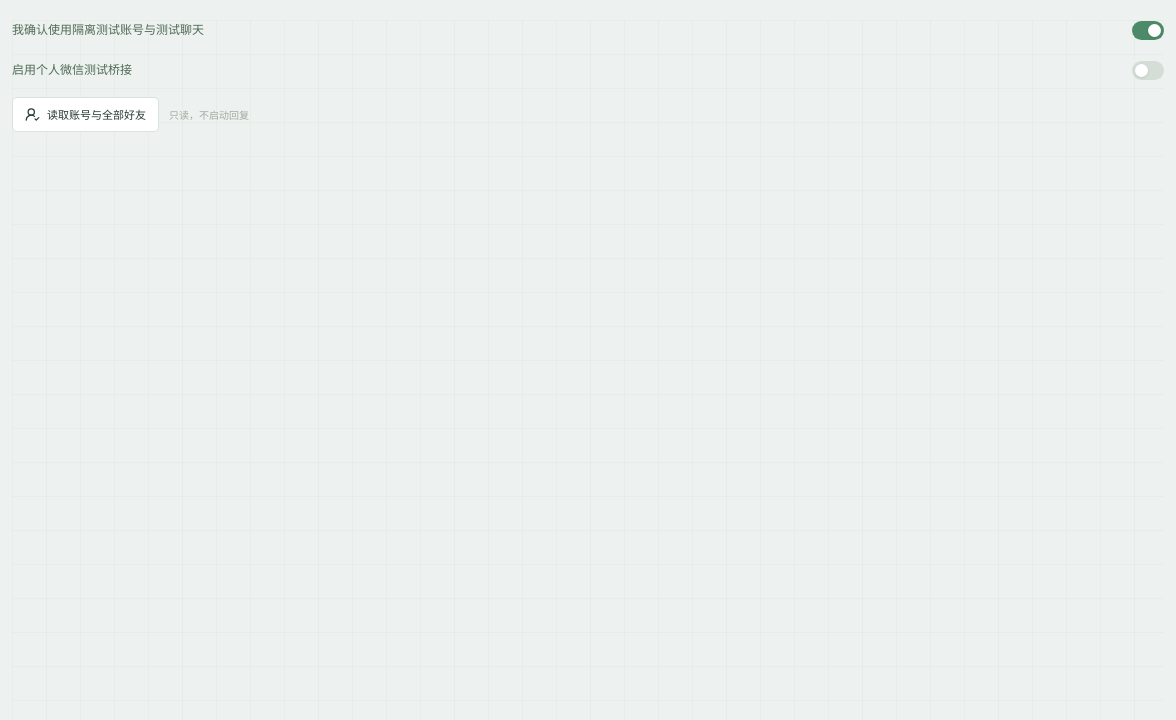
clears a previous whitelist when the selected account changes
What coordinates should you click on to do the following:
click the button "读取账号与全部好友"
I would click on:
 (86, 114)
Its box is [12,97,159,132].
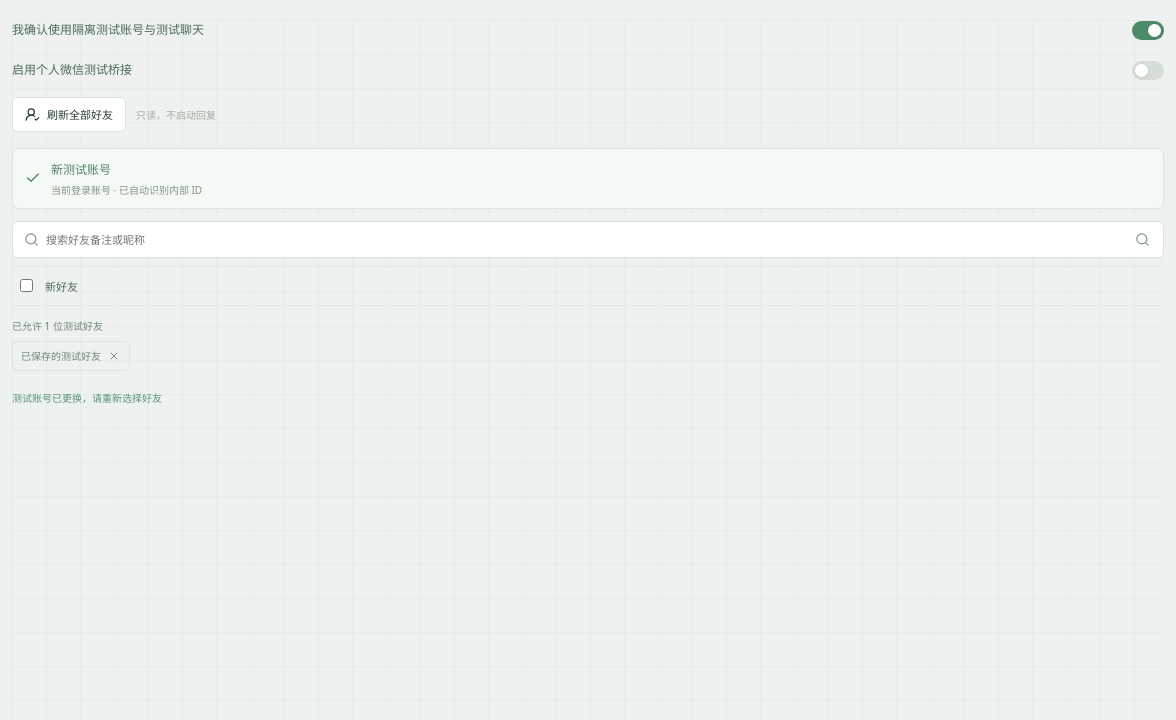
Now the text "测试账号已更换，请重新选择好友" is shown, box [12,391,162,405]
